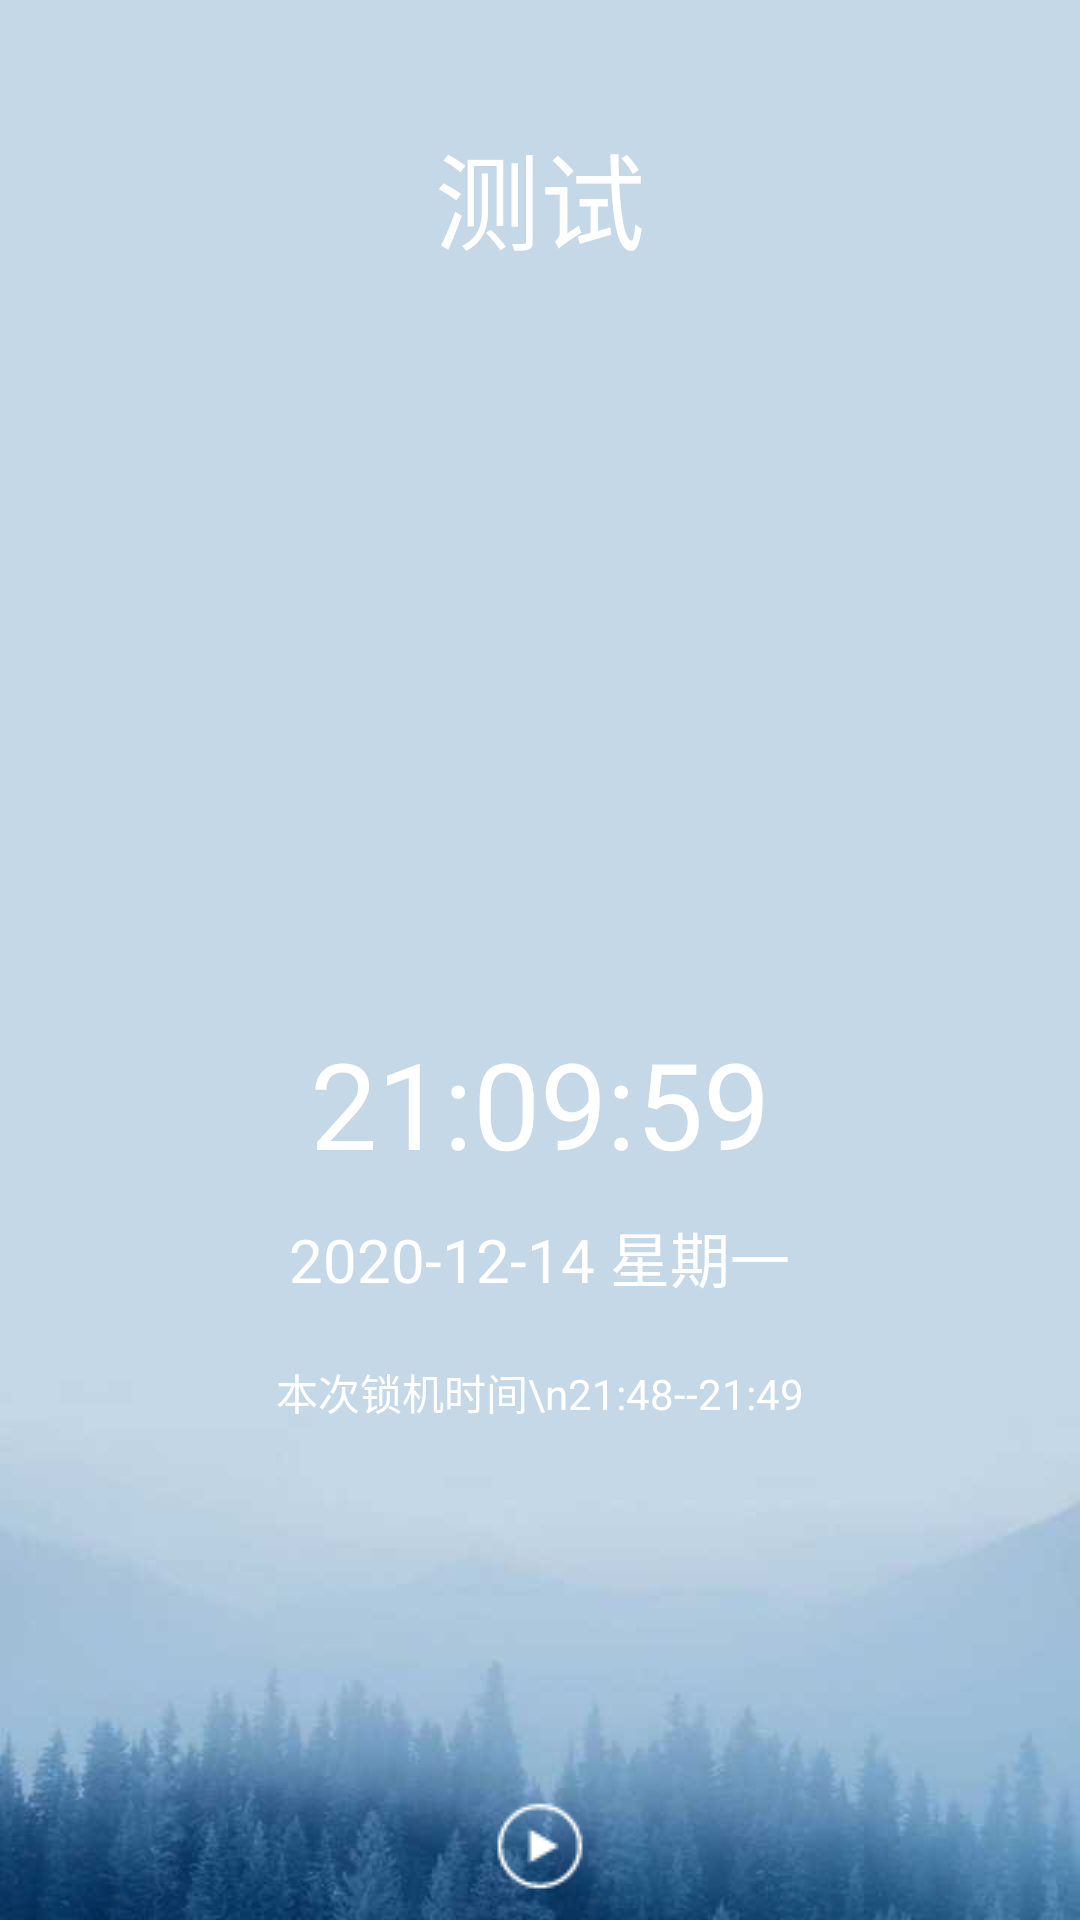

Screen size 1080*1920. Icon name, then its center in pixels as (x,y):
lockplay: (540,1846)
